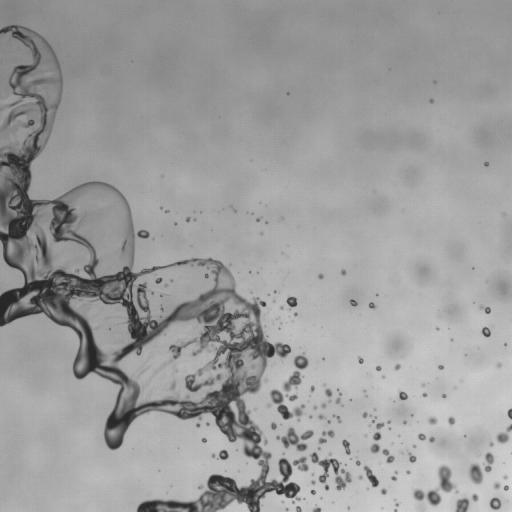droplet: (276, 427, 313, 451), (467, 463, 483, 484), (495, 424, 511, 443), (482, 452, 494, 472), (454, 497, 469, 511), (211, 449, 229, 460), (382, 448, 394, 463), (286, 295, 297, 311), (489, 497, 501, 509), (481, 326, 493, 337), (397, 389, 408, 400), (22, 54, 33, 65), (50, 121, 61, 132), (28, 160, 39, 171), (26, 188, 37, 199), (481, 315, 492, 326), (265, 333, 276, 344), (363, 359, 374, 370), (381, 362, 392, 373), (258, 383, 269, 394), (428, 389, 439, 400), (240, 391, 251, 402), (326, 402, 337, 413), (147, 408, 158, 419), (203, 411, 214, 422), (286, 416, 297, 427), (279, 418, 290, 429), (128, 419, 139, 430), (258, 424, 269, 435), (422, 424, 433, 435), (198, 425, 209, 436), (330, 435, 341, 446), (234, 437, 245, 448), (305, 437, 316, 448), (492, 442, 503, 453), (285, 450, 296, 461), (334, 450, 345, 461), (396, 454, 407, 465), (344, 461, 355, 472), (250, 466, 261, 477), (459, 468, 470, 479), (460, 471, 471, 482), (235, 477, 246, 488), (429, 477, 440, 488), (468, 482, 479, 493), (265, 490, 276, 501), (307, 495, 318, 506), (478, 495, 489, 506), (229, 499, 240, 510), (479, 304, 490, 314), (428, 416, 437, 425), (11, 37, 20, 46), (235, 286, 244, 295), (358, 299, 367, 308), (285, 352, 294, 361), (86, 371, 95, 380), (315, 385, 324, 394), (285, 401, 294, 410), (302, 405, 311, 414), (322, 408, 331, 417), (98, 415, 107, 424), (438, 416, 447, 425), (329, 421, 338, 430), (294, 426, 303, 435), (278, 427, 287, 436), (302, 448, 311, 457), (314, 465, 323, 474), (314, 481, 323, 490), (494, 488, 503, 497), (145, 492, 154, 501), (180, 493, 189, 502), (447, 416, 455, 426), (0, 222, 6, 233), (221, 505, 232, 511), (238, 505, 249, 511), (301, 505, 312, 511), (426, 505, 437, 511), (368, 302, 377, 309), (471, 493, 478, 502), (312, 504, 321, 511), (349, 299, 357, 306), (418, 433, 426, 440), (493, 481, 500, 489), (0, 112, 5, 123), (0, 137, 5, 148), (394, 363, 401, 370), (380, 487, 387, 494), (24, 95, 31, 102), (2, 109, 9, 116), (8, 135, 15, 142), (1, 226, 8, 233), (133, 235, 140, 242), (200, 252, 207, 259), (221, 258, 228, 265), (228, 265, 235, 272), (130, 266, 137, 273), (17, 280, 24, 287), (27, 313, 34, 320), (13, 317, 20, 324), (3, 322, 10, 329), (63, 325, 70, 332), (69, 351, 76, 358), (272, 352, 279, 359), (265, 356, 272, 363), (298, 368, 305, 375), (282, 374, 289, 381), (113, 383, 120, 390), (276, 384, 283, 391), (331, 391, 338, 398), (321, 394, 328, 401), (265, 395, 272, 402), (281, 398, 288, 405), (244, 403, 251, 410), (316, 406, 323, 413), (104, 408, 111, 415), (311, 409, 318, 416), (428, 410, 435, 417), (275, 412, 282, 419), (248, 413, 255, 420), (170, 414, 177, 421), (190, 416, 197, 423), (370, 426, 377, 433), (499, 426, 506, 433), (378, 427, 385, 434), (493, 440, 500, 447), (100, 441, 107, 448), (288, 443, 295, 450), (488, 446, 495, 453), (237, 448, 244, 455), (317, 453, 324, 460), (492, 455, 499, 462), (247, 456, 254, 463), (304, 457, 311, 464), (406, 461, 413, 468), (290, 464, 297, 471), (463, 464, 470, 471), (478, 464, 485, 471), (252, 472, 259, 479), (350, 473, 357, 480), (275, 474, 282, 481), (201, 475, 208, 482), (264, 475, 271, 482), (287, 475, 294, 482), (448, 476, 455, 483), (364, 479, 371, 486), (376, 482, 383, 489), (421, 487, 428, 494), (437, 488, 444, 495), (406, 490, 413, 497), (456, 492, 463, 499), (161, 494, 168, 501), (421, 496, 428, 503), (134, 498, 141, 505), (412, 498, 419, 505), (436, 501, 443, 508), (450, 502, 457, 509), (357, 356, 363, 364), (270, 422, 276, 430), (295, 505, 302, 511), (505, 417, 511, 424), (256, 216, 262, 222), (340, 269, 346, 275), (317, 273, 323, 279), (105, 325, 111, 331), (375, 365, 381, 371), (201, 437, 207, 443), (429, 436, 435, 442), (503, 485, 509, 491), (0, 286, 4, 295), (437, 364, 444, 369), (197, 484, 204, 489), (185, 216, 190, 222), (279, 304, 284, 310), (496, 362, 501, 368), (355, 460, 361, 465), (310, 489, 316, 494), (507, 340, 511, 347), (507, 430, 511, 437), (288, 507, 295, 511), (429, 98, 434, 103), (164, 282, 169, 287), (420, 382, 425, 387), (422, 392, 427, 397), (205, 421, 210, 426), (358, 474, 363, 479), (502, 474, 507, 479), (310, 480, 315, 485), (11, 20, 16, 25), (28, 24, 33, 29), (6, 30, 11, 35), (38, 30, 43, 35), (47, 39, 52, 44), (50, 43, 55, 48), (53, 48, 58, 53), (56, 55, 61, 60), (59, 64, 64, 69), (8, 66, 13, 71), (60, 69, 65, 74), (61, 77, 66, 82), (3, 80, 8, 85), (61, 83, 66, 88), (7, 86, 12, 91), (60, 93, 65, 98), (15, 94, 20, 99), (31, 96, 36, 101), (433, 98, 438, 103), (57, 104, 62, 109), (54, 113, 59, 118), (46, 139, 51, 144), (89, 176, 94, 181), (96, 176, 101, 181), (84, 177, 89, 182), (99, 177, 104, 182), (80, 178, 85, 183), (75, 180, 80, 185), (113, 183, 118, 188), (64, 186, 69, 191), (118, 187, 123, 192), (123, 193, 128, 198), (49, 195, 54, 200), (128, 203, 133, 208), (227, 207, 232, 212), (130, 211, 135, 216), (253, 213, 258, 218), (259, 218, 264, 223), (143, 225, 148, 230), (133, 228, 138, 233), (133, 250, 138, 255), (185, 254, 190, 259), (211, 255, 216, 260), (177, 256, 182, 261), (169, 258, 174, 263), (153, 261, 158, 266), (147, 263, 152, 268), (12, 267, 17, 272), (336, 267, 341, 272), (345, 269, 350, 274), (17, 270, 22, 275), (231, 271, 236, 276), (313, 271, 318, 276), (322, 272, 327, 277), (339, 274, 344, 279), (318, 278, 323, 283), (260, 296, 265, 301), (265, 300, 270, 305), (345, 301, 350, 306), (284, 303, 289, 308), (258, 305, 263, 310), (291, 305, 296, 310), (39, 311, 44, 316), (47, 318, 52, 323), (274, 320, 279, 325), (53, 322, 58, 327), (73, 333, 78, 338), (281, 339, 286, 344), (289, 344, 294, 349), (304, 353, 309, 358), (68, 361, 73, 366), (373, 361, 378, 366), (390, 362, 395, 367), (376, 370, 381, 375), (69, 372, 74, 377), (106, 379, 111, 384), (421, 387, 426, 392), (394, 393, 399, 398), (111, 397, 116, 402), (400, 399, 405, 404), (316, 402, 321, 407), (335, 403, 340, 408), (301, 407, 306, 412), (503, 407, 508, 412), (366, 409, 371, 414), (371, 411, 376, 416), (446, 412, 451, 417), (503, 413, 508, 418), (299, 414, 304, 419), (312, 414, 317, 419), (326, 414, 331, 419), (366, 416, 371, 421), (405, 416, 410, 421), (453, 416, 458, 421), (331, 417, 336, 422), (321, 418, 326, 423), (374, 418, 379, 423), (443, 418, 448, 423), (453, 420, 458, 425), (371, 422, 376, 427), (383, 423, 388, 428), (431, 423, 436, 428), (214, 425, 219, 430), (324, 426, 329, 431), (332, 428, 337, 433), (425, 433, 430, 438), (324, 434, 329, 439), (346, 437, 351, 442), (375, 439, 380, 444), (257, 441, 262, 446), (278, 441, 283, 446), (429, 441, 434, 446), (320, 442, 325, 447), (118, 444, 123, 449), (348, 444, 353, 449), (218, 445, 223, 450), (340, 446, 345, 451), (378, 446, 383, 451), (366, 448, 371, 453), (226, 449, 231, 454), (388, 450, 393, 455), (411, 450, 416, 455), (214, 451, 219, 456), (330, 453, 335, 458), (382, 454, 387, 459), (404, 454, 409, 459), (351, 457, 356, 462), (222, 458, 227, 463), (287, 458, 292, 463), (388, 461, 393, 466), (489, 462, 494, 467), (338, 463, 343, 468), (327, 465, 332, 470), (343, 466, 348, 471), (305, 469, 310, 474), (361, 470, 366, 475), (371, 470, 376, 475), (222, 472, 227, 477), (375, 475, 380, 480), (314, 478, 319, 483), (344, 481, 349, 486), (320, 482, 325, 487), (499, 482, 504, 487), (309, 484, 314, 489), (449, 488, 454, 493), (271, 489, 276, 494), (385, 489, 390, 494), (475, 490, 480, 495), (295, 491, 300, 496), (280, 493, 285, 498), (379, 493, 384, 498), (477, 494, 482, 499), (467, 496, 472, 501), (258, 497, 263, 502), (286, 497, 291, 502), (232, 498, 237, 503), (485, 498, 490, 503), (499, 498, 504, 503), (294, 500, 299, 505), (310, 504, 315, 509), (489, 441, 493, 447), (0, 241, 3, 248), (484, 161, 488, 166), (164, 209, 169, 213), (168, 278, 173, 282), (313, 405, 317, 410), (406, 470, 411, 474), (259, 231, 263, 235), (381, 374, 385, 378), (308, 414, 312, 418), (364, 433, 368, 437), (285, 507, 289, 511), (441, 394, 446, 397), (403, 420, 406, 425), (508, 485, 511, 490), (217, 508, 222, 511), (258, 508, 263, 511), (465, 508, 470, 511), (491, 508, 496, 511), (174, 221, 177, 225), (273, 289, 276, 293), (294, 312, 297, 316), (436, 326, 439, 330), (504, 342, 507, 346), (453, 386, 457, 389), (363, 389, 366, 393), (387, 420, 391, 423), (412, 444, 416, 447), (311, 472, 314, 476), (347, 506, 350, 510), (0, 24, 2, 29), (433, 80, 436, 83), (286, 92, 289, 95), (160, 206, 163, 209), (281, 216, 284, 219), (193, 218, 196, 221), (281, 251, 284, 254), (248, 270, 251, 273), (450, 338, 453, 341), (322, 357, 325, 360), (323, 383, 326, 386), (373, 408, 376, 411), (410, 414, 413, 417), (388, 427, 391, 430), (397, 434, 400, 437), (366, 487, 369, 490), (281, 500, 284, 503), (284, 89, 287, 92), (283, 92, 286, 95), (427, 96, 430, 99), (10, 100, 13, 103), (18, 101, 21, 104), (427, 101, 430, 104), (11, 105, 14, 108), (8, 132, 11, 135), (484, 158, 487, 161), (488, 162, 491, 165), (483, 165, 486, 168), (105, 180, 108, 183), (72, 184, 75, 187), (159, 203, 162, 206), (234, 206, 237, 209), (162, 207, 165, 210), (196, 210, 199, 213), (248, 210, 251, 213), (165, 212, 168, 215), (182, 217, 185, 220), (189, 217, 192, 220), (252, 218, 255, 221), (266, 218, 269, 221), (175, 219, 178, 222), (184, 221, 187, 224), (256, 221, 259, 224), (171, 223, 174, 226), (264, 223, 267, 226), (175, 224, 178, 227), (193, 255, 196, 258), (162, 262, 165, 265), (159, 263, 162, 266), (468, 266, 471, 269), (474, 266, 477, 269), (248, 267, 251, 270), (256, 268, 259, 271), (471, 269, 474, 272), (250, 271, 253, 274), (246, 272, 249, 275), (275, 288, 278, 291), (375, 290, 378, 293), (270, 291, 273, 294), (274, 292, 277, 295), (372, 292, 375, 295), (289, 293, 292, 296), (284, 296, 287, 299), (351, 296, 354, 299), (295, 299, 298, 302), (368, 299, 371, 302), (365, 303, 368, 306), (351, 305, 354, 308), (369, 307, 372, 310), (481, 308, 484, 311), (489, 310, 492, 313), (296, 313, 299, 316), (485, 313, 488, 316), (274, 314, 277, 317), (278, 324, 281, 327), (437, 324, 440, 327), (481, 324, 484, 327), (485, 324, 488, 327), (274, 326, 277, 329), (479, 327, 482, 330), (438, 328, 441, 331), (434, 329, 437, 332), (489, 329, 492, 332), (489, 333, 492, 336), (481, 334, 484, 337), (447, 336, 450, 339), (452, 336, 455, 339), (451, 340, 454, 343), (500, 342, 503, 345), (506, 342, 509, 345), (360, 355, 363, 358), (324, 357, 327, 360), (320, 359, 323, 362), (355, 359, 358, 362), (362, 360, 365, 363), (440, 362, 443, 365), (380, 365, 383, 368), (398, 367, 401, 370), (440, 368, 443, 371), (374, 369, 377, 372), (307, 386, 310, 389), (313, 388, 316, 391), (401, 388, 404, 391), (338, 389, 341, 392), (442, 390, 445, 393), (364, 391, 367, 394), (406, 392, 409, 395), (419, 392, 422, 395), (438, 393, 441, 396), (445, 393, 448, 396), (339, 395, 342, 398), (348, 395, 351, 398), (420, 395, 423, 398), (423, 396, 426, 399), (351, 397, 354, 400), (441, 397, 444, 400), (348, 400, 351, 403), (410, 410, 413, 413), (360, 411, 363, 414), (335, 412, 338, 415), (407, 413, 410, 416), (412, 414, 415, 417), (339, 416, 342, 419), (371, 416, 374, 419), (340, 421, 343, 424), (405, 421, 408, 424), (387, 423, 390, 426), (401, 423, 404, 426), (451, 423, 454, 426), (390, 427, 393, 430), (420, 430, 423, 433), (460, 433, 463, 436), (432, 434, 435, 437), (465, 435, 468, 438), (205, 436, 208, 439), (341, 436, 344, 439), (417, 438, 420, 441), (200, 441, 203, 444), (204, 441, 207, 444), (208, 454, 211, 457), (346, 454, 349, 457), (415, 457, 418, 460), (358, 458, 361, 461), (412, 461, 415, 464), (403, 471, 406, 474), (501, 472, 504, 475), (393, 473, 396, 476), (407, 473, 410, 476), (390, 479, 393, 482), (505, 489, 508, 492), (308, 492, 311, 495), (313, 493, 316, 496), (395, 499, 398, 502), (398, 503, 401, 506), (317, 504, 320, 507), (349, 505, 352, 508), (393, 505, 396, 508), (300, 506, 303, 509), (160, 175, 163, 177), (251, 212, 254, 214), (265, 221, 268, 223), (152, 237, 155, 239), (267, 293, 270, 295), (376, 293, 378, 296), (279, 322, 282, 324), (364, 395, 367, 397), (349, 398, 351, 401), (253, 408, 256, 410), (464, 434, 466, 437), (235, 449, 238, 451), (344, 463, 346, 466), (320, 496, 322, 499), (282, 509, 285, 511), (319, 509, 322, 511), (345, 509, 348, 511), (348, 509, 351, 511), (380, 509, 383, 511), (390, 509, 393, 511), (193, 210, 195, 212), (200, 211, 202, 213), (472, 267, 474, 269), (250, 291, 252, 293), (278, 327, 280, 329), (393, 400, 395, 402), (246, 462, 248, 464), (237, 470, 239, 472), (332, 501, 334, 503), (381, 507, 383, 509), (510, 452, 511, 454), (503, 462, 504, 463)
ligament: (266, 352, 308, 421), (362, 411, 385, 454), (363, 465, 379, 487), (317, 430, 334, 450), (321, 388, 332, 409), (335, 388, 343, 407), (317, 413, 330, 424), (342, 439, 351, 454), (406, 450, 416, 462), (393, 498, 400, 511), (332, 414, 342, 423), (308, 385, 314, 397), (229, 205, 236, 212), (507, 408, 511, 419), (272, 297, 275, 303), (275, 316, 280, 319), (349, 456, 352, 460), (279, 423, 281, 425)
